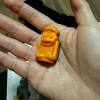Stone Statue: (30, 23, 63, 70)
